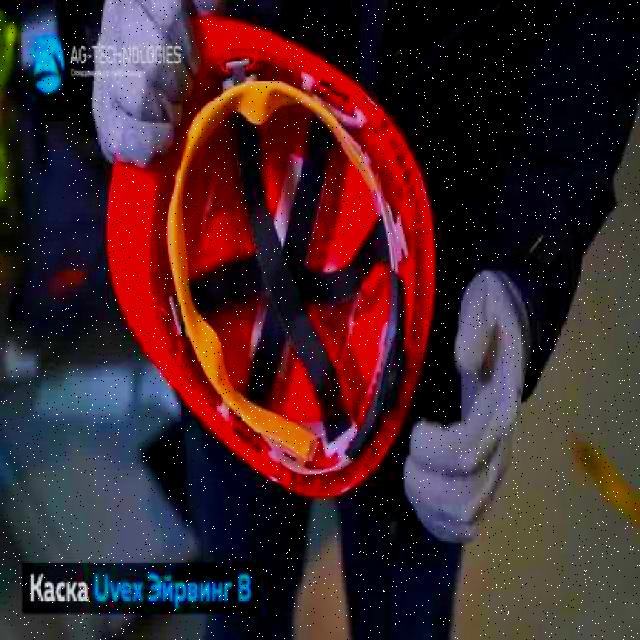Gloves: (402, 264, 532, 550), (89, 0, 202, 172)
Helmet: (103, 0, 437, 503)
